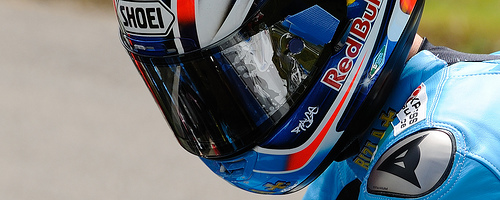helmet: (110, 1, 434, 167)
